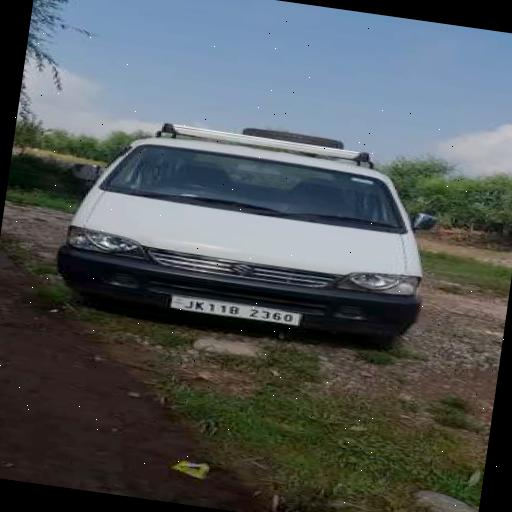license_plate`: (171, 292, 300, 325)
